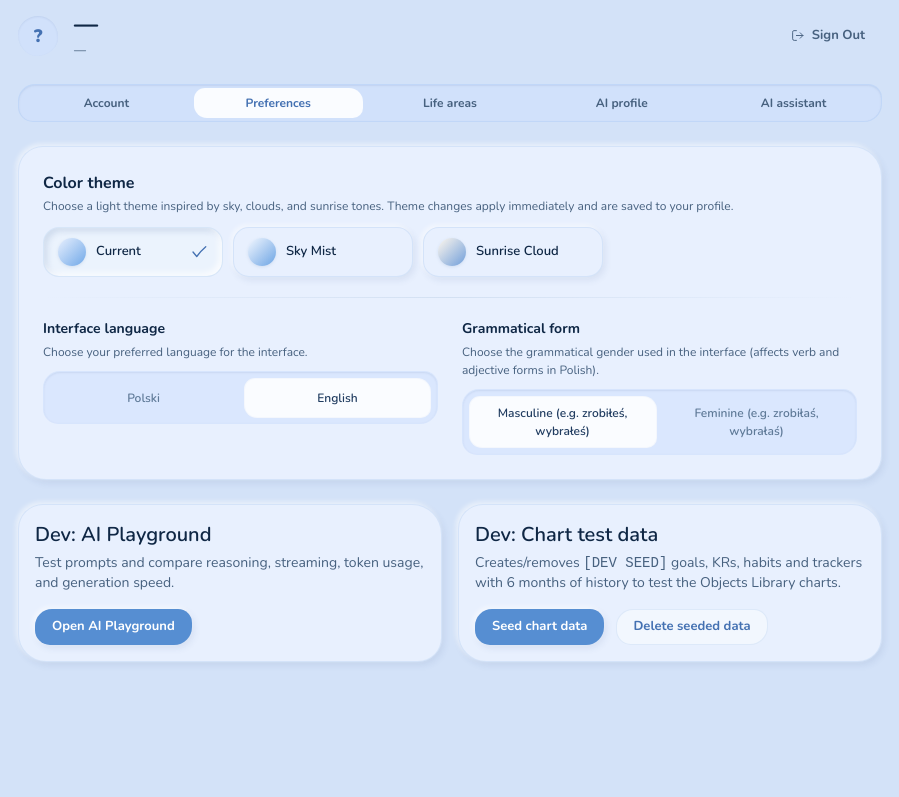
it: ProfileView › AI assistant tab › renders AI provider settings fields after switching to the tab
Click the tab "AI assistant".
click(794, 103)  # box [709,88,878,118]
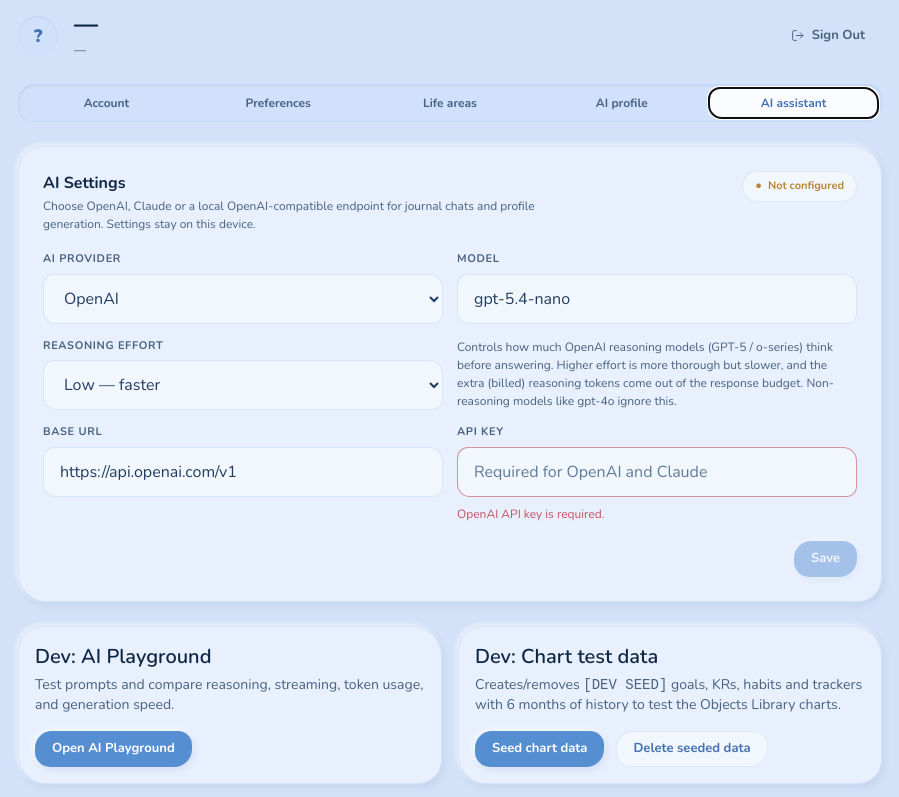
Now the dropdown labelled "AI provider" is shown, box [43,274,443,324]
Now the field labelled "Base URL" is shown, box [43,447,443,497]
Now the field labelled "Model" is shown, box [457,274,857,324]
